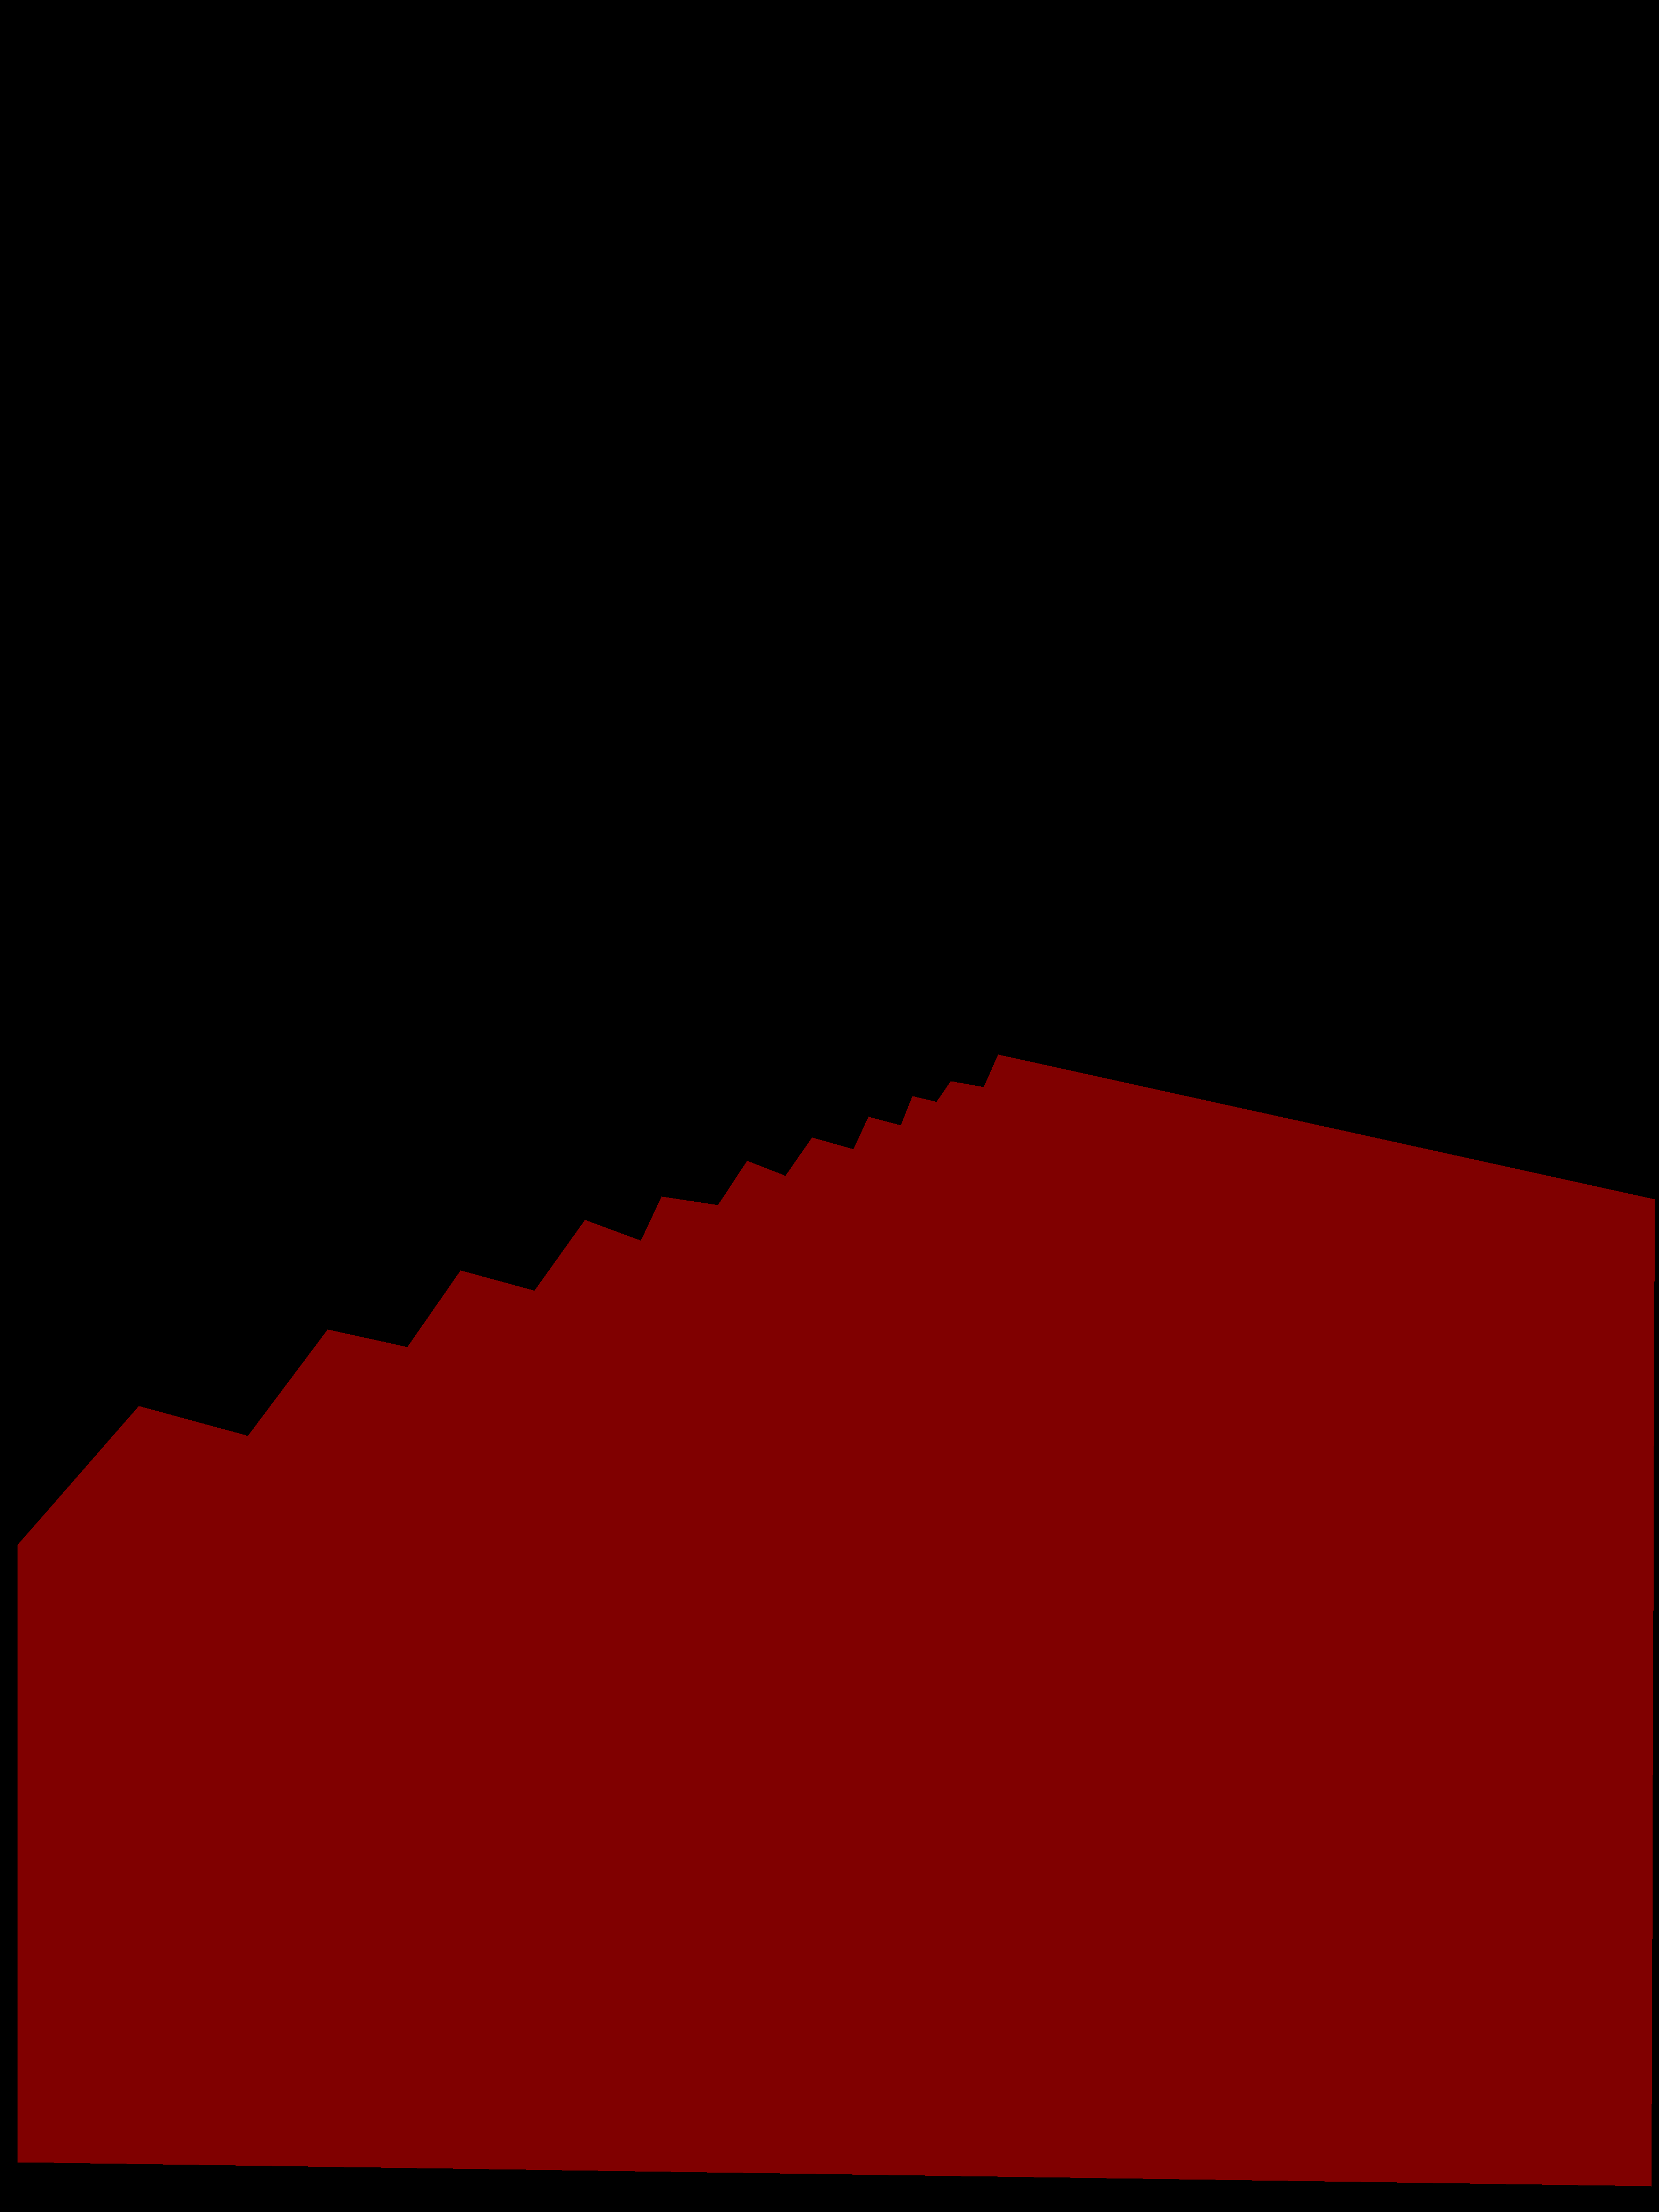stair: (17, 1054, 1654, 2186)
